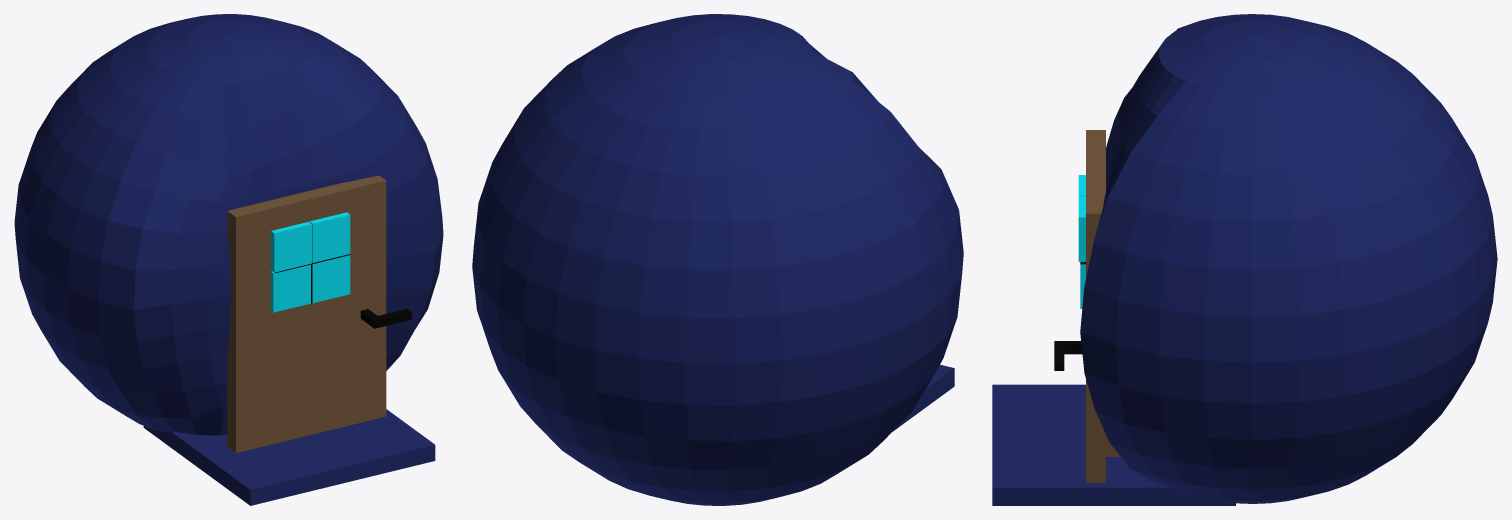
Rendered from pod.fbx.
3 views of the same model, side by side, from view 1: azimuth 30°, elevation 25°; view 2: azimuth 150°, elevation 25°; view 3: azimuth 270°, elevation 25° (orthographic). The views are drawn at different scales.
Visible parts, largest first — view 1: Sphere, Cube.001, Cube, Cube.002, Cube.003, Cube.004, Cube.006, Cube.007; view 2: Sphere, Cube; view 3: Sphere, Cube, Cube.001.
Part boxes in pixels (x1,y1,x2,y2): Sphere: (14,14,443,435); Cube.001: (227,175,386,452); Cube: (143,409,435,505); Cube.002: (271,222,311,272); Cube.003: (309,212,350,262); Cube.004: (271,264,310,312); Cube.006: (312,255,350,303); Cube.007: (370,308,411,328); Sphere: (472,14,963,505); Cube: (892,364,954,431); Sphere: (1080,14,1497,503); Cube: (992,384,1235,505); Cube.001: (1086,130,1105,482).
Bounding box in the file's own units: 991 × 991 × 1020.
